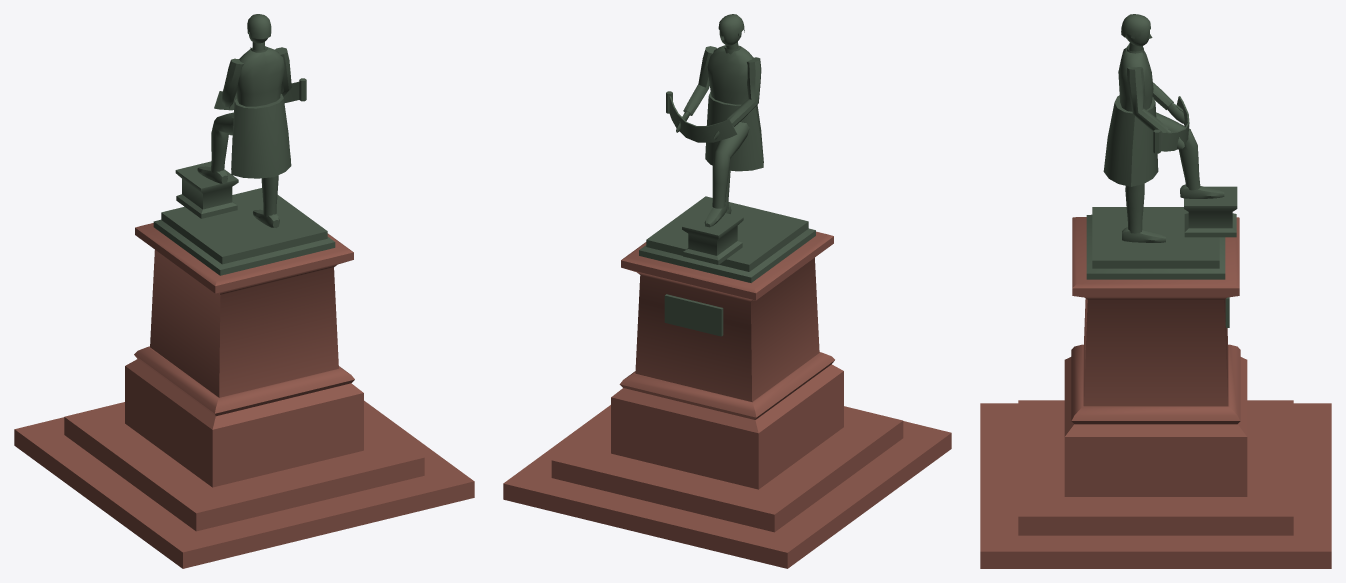
Rendered from mon_semper.glb.
The picture shows the model from 3 angles, left to right: view 1: azimuth 30°, elevation 25°; view 2: azimuth 150°, elevation 25°; view 3: azimuth 270°, elevation 25°; orthographic projection. The views are drawn at different scales.
Visible parts, largest first — view 1: mon_semper; view 2: mon_semper; view 3: mon_semper.
Part boxes in pixels (box(x1,y1,x2,y2)): mon_semper: box(14, 14, 474, 568); mon_semper: box(503, 14, 951, 568); mon_semper: box(980, 14, 1331, 568).
Bounding box in the file's own units: 3.7 × 5.6 × 3.7.
